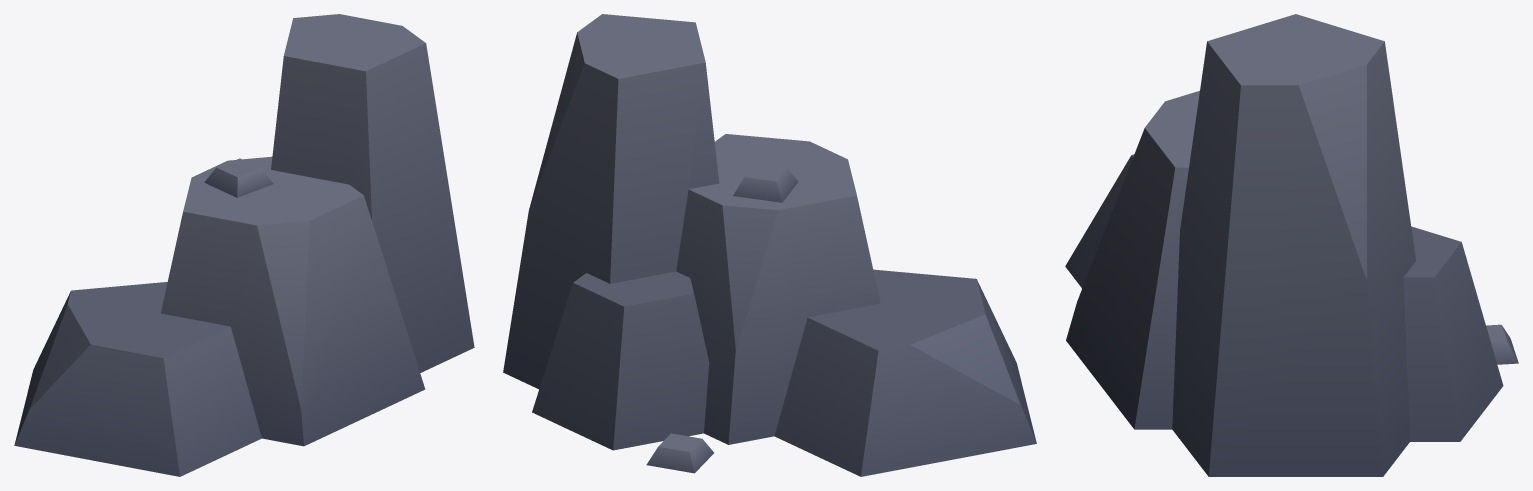
File: rock_c.fbx
3 renders of one model, left to right at view 1: azimuth 30°, elevation 25°; view 2: azimuth 150°, elevation 25°; view 3: azimuth 270°, elevation 25°, orthographic. The views are drawn at different scales.
Visible parts, largest first — view 1: rock-c; view 2: rock-c; view 3: rock-c.
Boxes of the visible parts, x1=… form: rock-c: x1=14, y1=14, x2=474, y2=476; rock-c: x1=503, y1=14, x2=1036, y2=476; rock-c: x1=1065, y1=14, x2=1518, y2=476.
Bounding box in the file's own units: 2.6 × 1.69 × 1.88.
